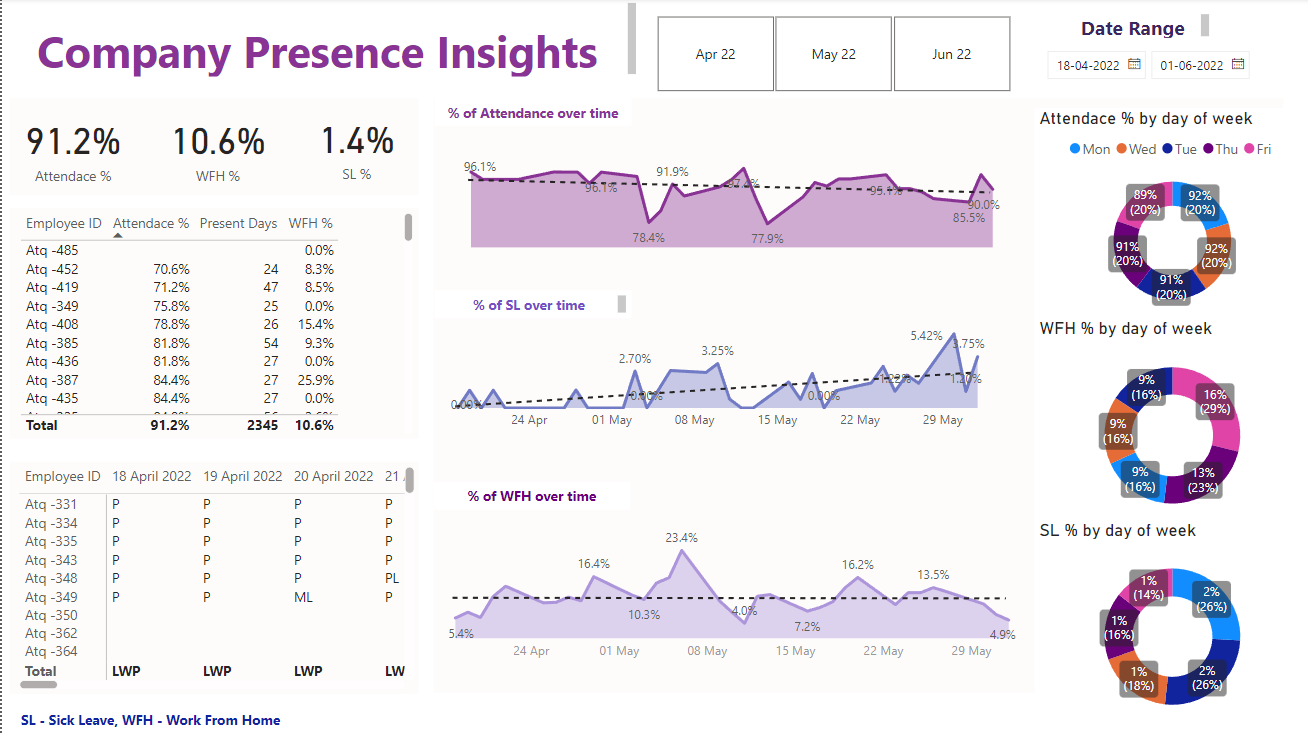

This screenshot's page, from the dashboard's own definition file:
{"tool":"powerbi","page":{"name":"Presence Insights","canvas":[1280,720],"ordinal":0},"visuals":[{"type":"textbox","box":[7.8,205.6,399.9,225.5],"z":0},{"type":"textbox","box":[7.8,453.3,399.8,227.6],"z":1000},{"type":"textbox","box":[421.7,97.8,831.2,581.9],"z":2000},{"type":"textbox","box":[7.8,98,399.9,95.4],"z":3000},{"type":"tableEx","fields":{"Values":["Final Data.Employee ID","Measures (2).Attendace %","Measures (2).Present Days","Measures (2).WFH %"]},"box":[12.6,205.2,394.9,225.7],"z":4000},{"type":"slicer","fields":{"Values":["Final Data.Date"]},"box":[1009.7,41.6,261.6,55],"z":5000},{"type":"slicer","fields":{"Values":["Final Data.MMM YY"]},"box":[614.9,11,394.8,86.8],"z":6000},{"type":"areaChart","fields":{"Category":["Final Data.MMM YY","Final Data.Date"],"Y":["Measures (2).WFH %"]},"box":[420.7,502.3,589,153.5],"z":7000},{"type":"areaChart","fields":{"Category":["Final Data.WeekNo","Final Data.Date"],"Y":["Measures (2).Attendace %"]},"box":[444.1,144.9,540.4,103.2],"z":8000},{"type":"card","fields":{"Values":["Measures (2).Attendace %"]},"box":[7.8,98,124,96.3],"z":9000},{"type":"card","fields":{"Values":["Measures (2).WFH %"]},"box":[141.4,98,138.8,96.3],"z":10000},{"type":"areaChart","fields":{"Category":["Final Data.MMM YY","Final Data.Date"],"Y":["Measures (2).SL %"]},"box":[422.5,307.1,556,124],"z":11000},{"type":"card","fields":{"Values":["Measures (2).SL %"]},"box":[286.3,97.2,121.4,96.3],"z":12000},{"type":"textbox","box":[0,0,624.7,81.9],"z":13000},{"type":"textbox","box":[422.4,98.2,192.5,27.5],"z":14000},{"type":"textbox","box":[422.5,286.3,192.6,26.9],"z":15000},{"type":"textbox","box":[422.1,473.7,192.6,27.2],"z":16000},{"type":"pivotTable","fields":{"Rows":["Final Data.Employee ID"],"Columns":["Final Data.Date"],"Values":["Min(Final Data.Value)"]},"box":[11.7,453.3,395.9,227.6],"z":17000},{"type":"textbox","box":[13.6,691.6,289.8,28.2],"z":18000},{"type":"tableEx","fields":{"Values":["Final Data.day of week","Measures (2).Attendace %"]},"box":[1060.9,125.8,209.9,145.7],"z":19000},{"type":"tableEx","fields":{"Values":["Final Data.day of week","Measures (2).SL %"]},"box":[1060.9,294.1,191.7,167.4],"z":20000},{"type":"tableEx","fields":{"Values":["Final Data.day of week","Measures (2).WFH %"]},"box":[1068.7,483.2,170,167.4],"z":21000},{"type":"donutChart","fields":{"Category":["Final Data.day of week"],"Y":["Measures (2).Attendace %"]},"box":[1009.7,107.6,270.2,210.3],"z":22000},{"type":"donutChart","fields":{"Category":["Final Data.day of week"],"Y":["Measures (2).WFH %"]},"box":[1009.7,312.9,270.2,210.3],"z":23000},{"type":"donutChart","fields":{"Category":["Final Data.day of week"],"Y":["Measures (2).SL %"]},"box":[1009.7,509.7,270.2,210.3],"z":24000},{"type":"textbox","box":[1050.1,11,135.7,33],"z":25000}]}

Visuals, with their boxes in screenshot pixels (x1, y1, x2, y2), scaled from the page's 1280x720 canvas onto the 1308x733 screenshot:
textbox: <box>8,209,417,439</box>
textbox: <box>8,461,417,693</box>
textbox: <box>431,100,1280,692</box>
textbox: <box>8,100,417,197</box>
tableEx - Final Data.Employee ID x Measures (2).Attendace %: <box>13,209,416,439</box>
slicer - Final Data.Date: <box>1032,42,1299,98</box>
slicer - Final Data.MMM YY: <box>628,11,1032,100</box>
areaChart - Final Data.MMM YY x Final Data.Date: <box>430,511,1032,668</box>
areaChart - Final Data.WeekNo x Final Data.Date: <box>454,148,1006,253</box>
card - Measures (2).Attendace %: <box>8,100,135,198</box>
card - Measures (2).WFH %: <box>144,100,286,198</box>
areaChart - Final Data.MMM YY x Final Data.Date: <box>432,313,1000,439</box>
card - Measures (2).SL %: <box>293,99,417,197</box>
textbox: <box>0,0,638,83</box>
textbox: <box>432,100,628,128</box>
textbox: <box>432,291,629,319</box>
textbox: <box>431,482,628,510</box>
pivotTable - Final Data.Employee ID x Final Data.Date: <box>12,461,417,693</box>
textbox: <box>14,704,310,732</box>
tableEx - Final Data.day of week x Measures (2).Attendace %: <box>1084,128,1299,276</box>
tableEx - Final Data.day of week x Measures (2).SL %: <box>1084,299,1280,470</box>
tableEx - Final Data.day of week x Measures (2).WFH %: <box>1092,492,1266,662</box>
donutChart - Final Data.day of week x Measures (2).Attendace %: <box>1032,110,1307,324</box>
donutChart - Final Data.day of week x Measures (2).WFH %: <box>1032,319,1307,533</box>
donutChart - Final Data.day of week x Measures (2).SL %: <box>1032,519,1307,732</box>
textbox: <box>1073,11,1212,45</box>
